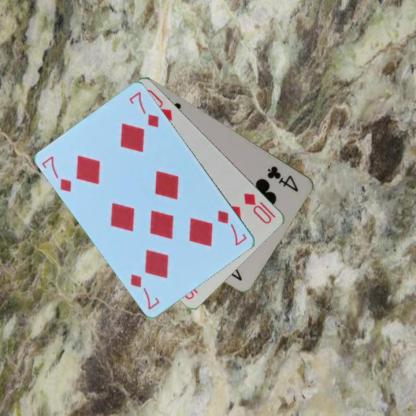10d: (242, 190, 277, 225)
4c: (264, 163, 300, 193)
7d: (40, 153, 74, 194), (215, 208, 248, 248)
